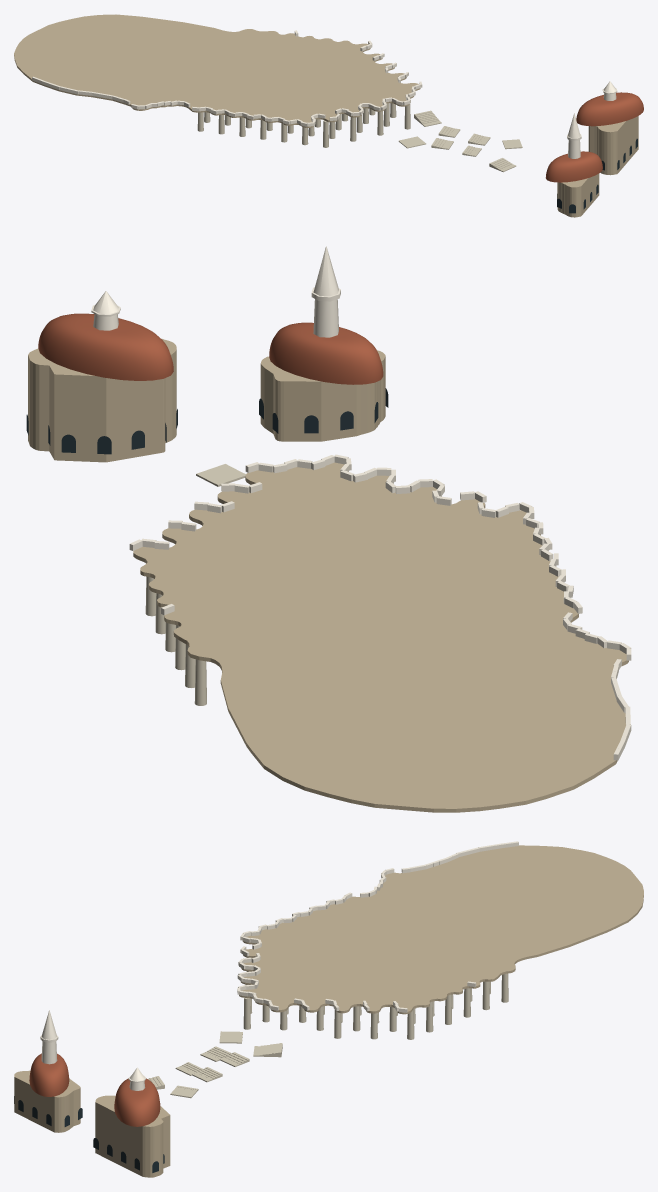
The model's file is park-guell.glb.
3 views of the same model, one above another, from view 1: azimuth 30°, elevation 25°; view 2: azimuth 150°, elevation 25°; view 3: azimuth 270°, elevation 25° (orthographic). The views are drawn at different scales.
Parts seen in each view (by area): view 1: nature-square, entrance-pavilion, pavilion-organic-roof, hypostyle-columns, serpentine-bench, monumental-zone-stairs, pavilion-roof-tower, facade-windows; view 2: nature-square, entrance-pavilion, pavilion-organic-roof, serpentine-bench, pavilion-roof-tower, hypostyle-columns, facade-windows; view 3: nature-square, entrance-pavilion, hypostyle-columns, serpentine-bench, pavilion-organic-roof, monumental-zone-stairs, pavilion-roof-tower, facade-windows.
Part boxes in pixels (x1,y1,x2,y2): nature-square: [14, 14, 420, 127]; entrance-pavilion: [557, 116, 638, 217]; pavilion-organic-roof: [545, 92, 643, 182]; hypostyle-columns: [197, 103, 410, 147]; serpentine-bench: [32, 30, 422, 126]; monumental-zone-stairs: [398, 110, 522, 172]; pavilion-roof-tower: [567, 81, 617, 158]; facade-windows: [557, 138, 637, 213]; nature-square: [133, 462, 628, 812]; entrance-pavilion: [28, 339, 385, 462]; pavilion-organic-roof: [38, 313, 383, 384]; serpentine-bench: [129, 454, 631, 760]; pavilion-roof-tower: [91, 246, 340, 337]; hypostyle-columns: [145, 576, 206, 705]; facade-windows: [26, 388, 388, 454]; nature-square: [239, 845, 643, 1014]; entrance-pavilion: [14, 1070, 170, 1177]; hypostyle-columns: [243, 971, 508, 1039]; serpentine-bench: [237, 841, 518, 1012]; pavilion-organic-roof: [29, 1053, 160, 1126]; monumental-zone-stairs: [148, 1031, 282, 1098]; pavilion-roof-tower: [40, 1010, 146, 1090]; facade-windows: [14, 1096, 164, 1172].
Size of the model in its own units: 15.63 by 2.99 by 16.
